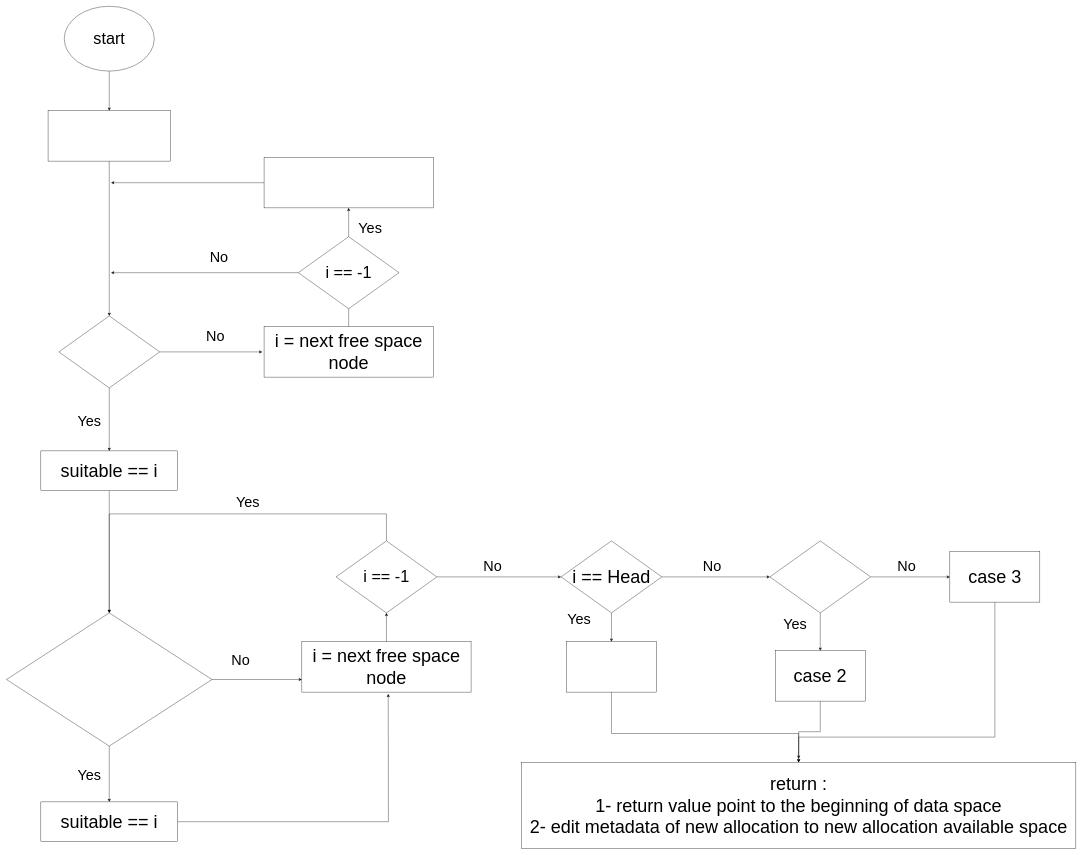
Some shapes in this 1082 by 855 pixel diagram are drawn without their labels. The centre of each missing label's shape, as x and y in pixels:
case 1: pixel 611 666
Extend break: pixel 348 182
i == Tail: pixel 820 577
malloc(size): pixel 109 135
SimHeap[i] >= Size: pixel 109 352
SimHeap[i] >= size && SimHeap[suitable] > SimHeap[i]: pixel 109 679
